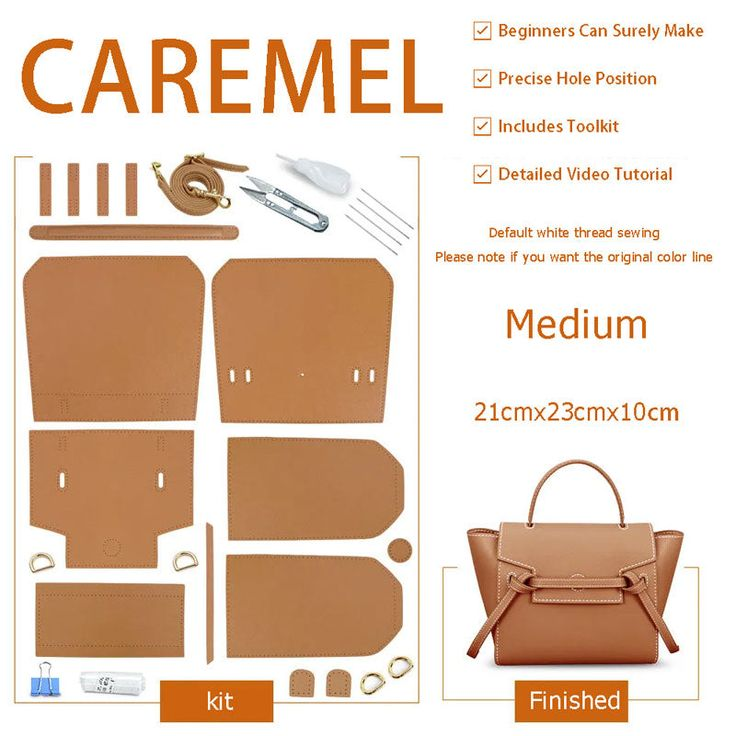cuero: (466, 522, 683, 665)
